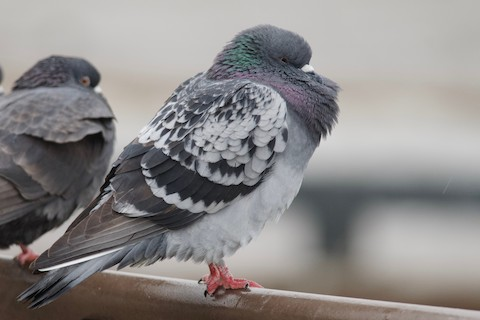pigeon: (17, 21, 343, 313), (7, 53, 117, 267)
